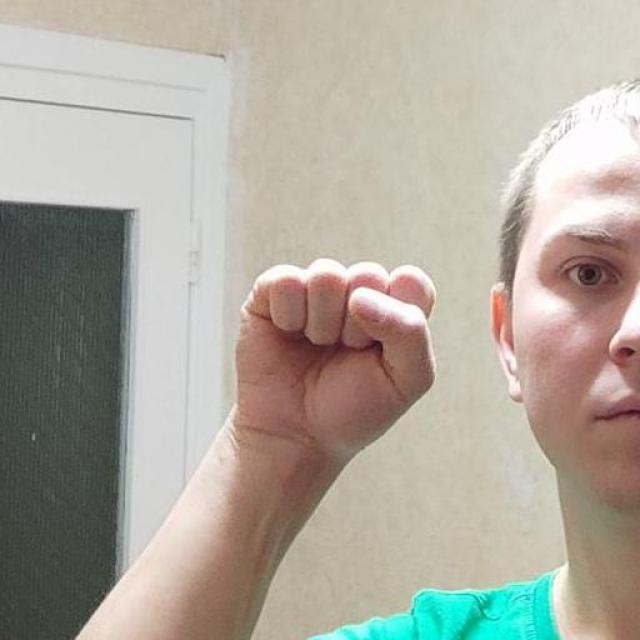hand: (230, 256, 438, 460)
